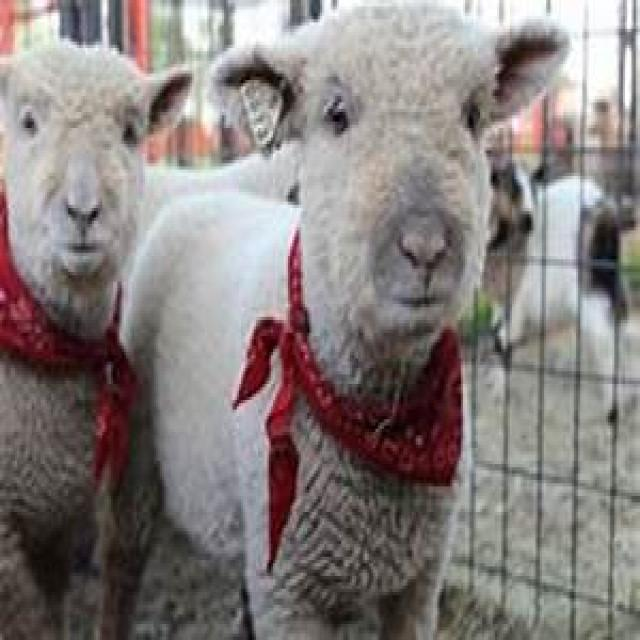animal: (114, 9, 571, 640), (0, 41, 191, 640)
